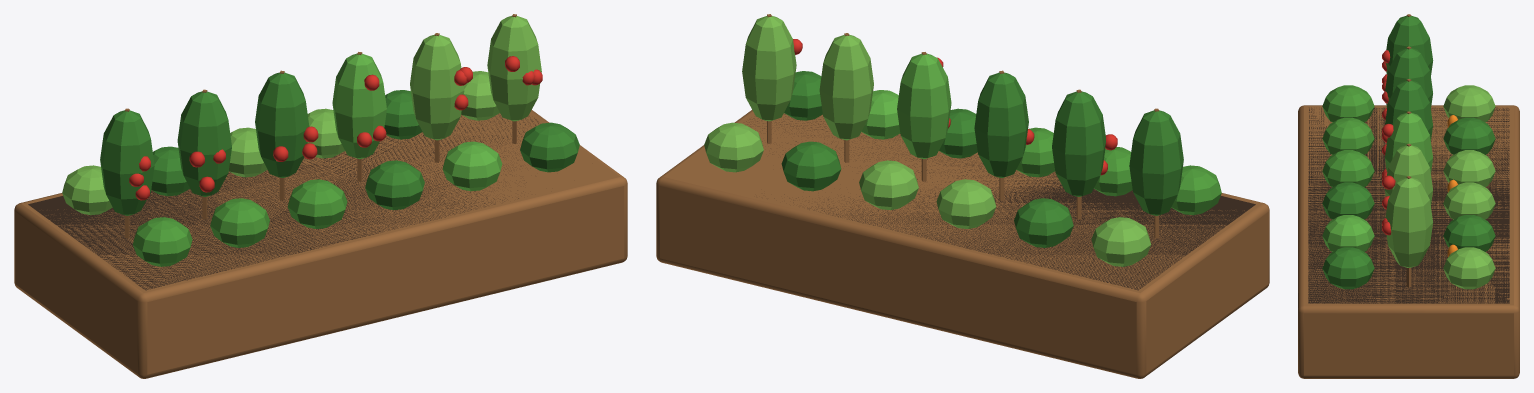
File: raised_bed.fbx
3 renders of one model, left to right at view 1: azimuth 30°, elevation 25°; view 2: azimuth 150°, elevation 25°; view 3: azimuth 270°, elevation 25°, orthographic. The views are drawn at different scales.
Parts seen in each view (by area): view 1: raised_bed; view 2: raised_bed; view 3: raised_bed.
Boxes of the visible parts, x1,y1,x2,y2 form: raised_bed: (14,14,627,378); raised_bed: (656,14,1269,378); raised_bed: (1298,14,1519,378).
Bounding box in the file's own units: 2.4 × 1 × 1.1.
